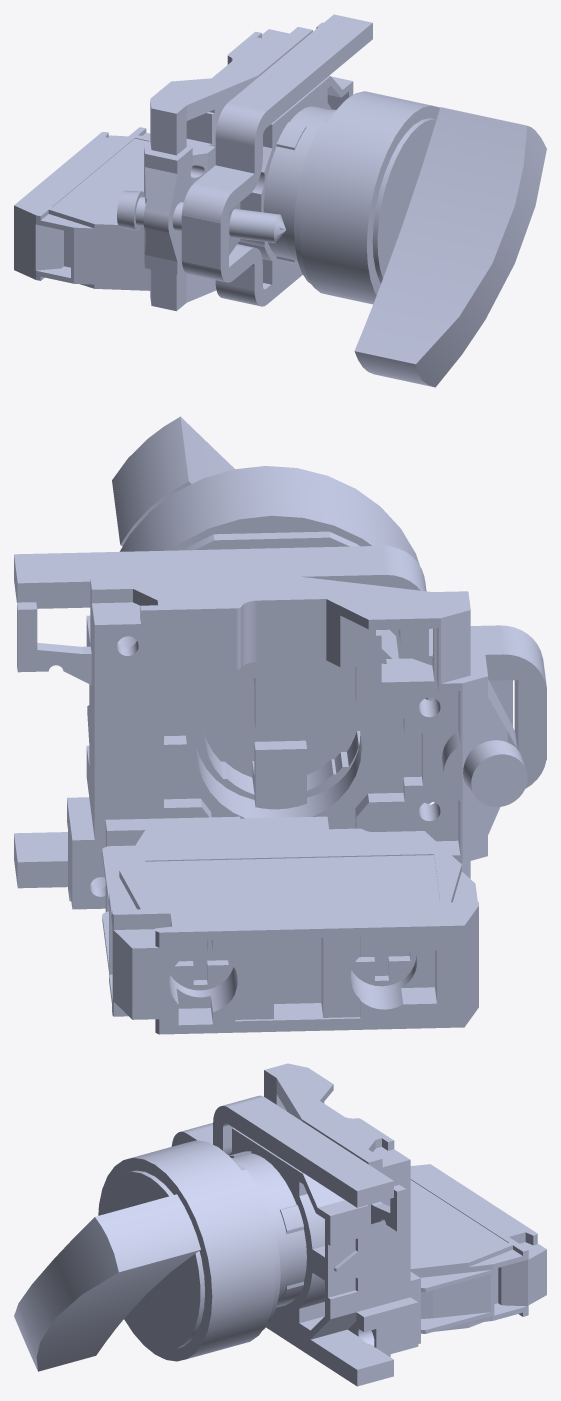
The model's file is panel_rotary_switch_3.glb.
3 renders of one model, top to bottom at view 1: azimuth 30°, elevation 25°; view 2: azimuth 150°, elevation 25°; view 3: azimuth 270°, elevation 25°, orthographic. The views are drawn at different scales.
Visible parts, largest first — view 1: rotary_switch_3; view 2: rotary_switch_3; view 3: rotary_switch_3.
Boxes of the visible parts, x1,y1,x2,y2 form: rotary_switch_3: [14, 14, 546, 387]; rotary_switch_3: [14, 416, 546, 1034]; rotary_switch_3: [14, 1063, 546, 1386].
Size of the model in its own units: 0.06 by 0.0345 by 0.0725.
